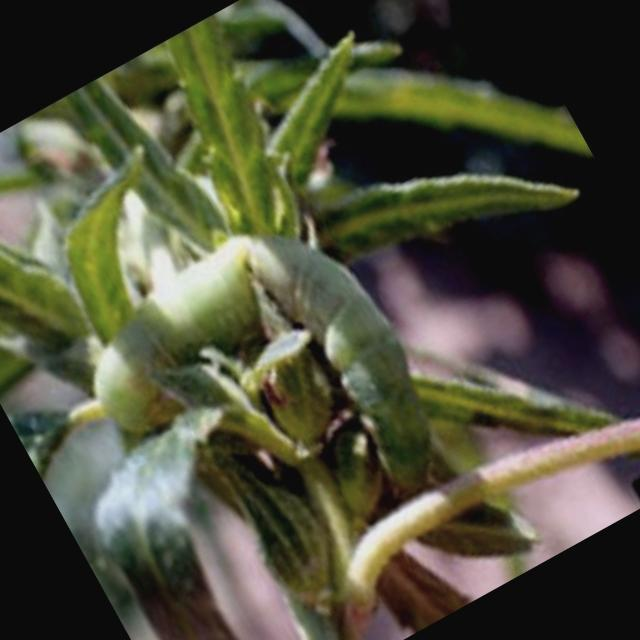Beet armyworm: (33, 165, 495, 636)
